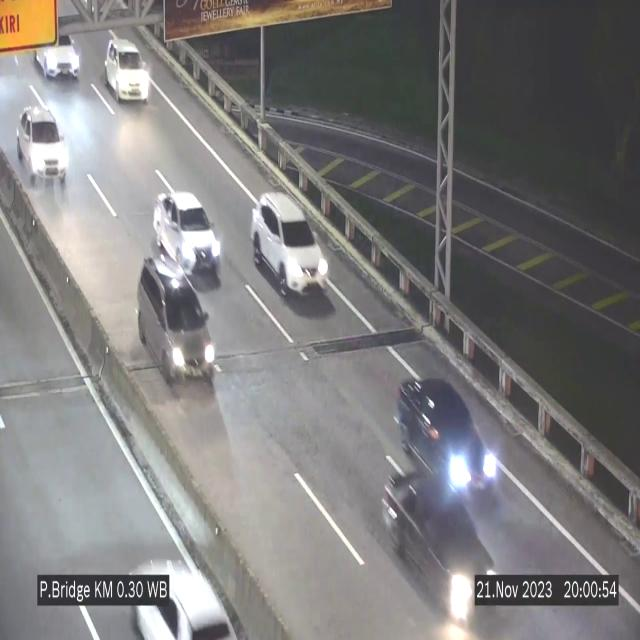Car: (381, 468, 497, 617), (399, 377, 501, 508), (125, 547, 240, 640), (137, 257, 215, 391), (251, 193, 330, 295), (152, 191, 222, 281), (15, 105, 69, 187), (31, 21, 83, 91), (104, 38, 151, 102)
